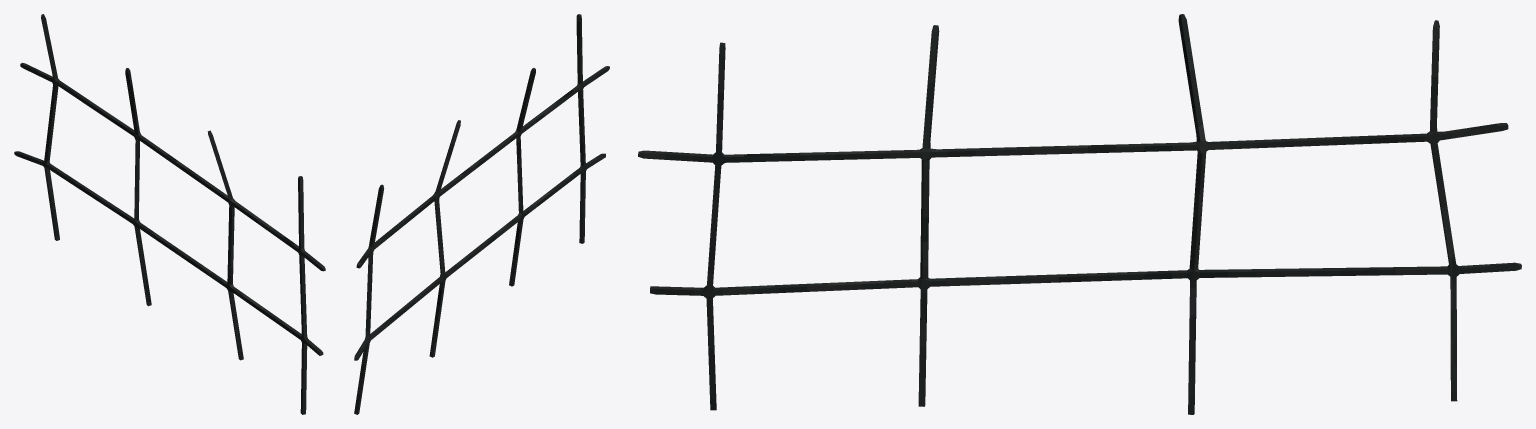
File: fence.glb
3 renders of one model, left to right at view 1: azimuth 30°, elevation 25°; view 2: azimuth 150°, elevation 25°; view 3: azimuth 270°, elevation 25°, orthographic. The views are drawn at different scales.
Visible parts, largest first — view 1: Cube; view 2: Cube; view 3: Cube.
Boxes of the visible parts, x1,y1,x2,y2 form: Cube: (14, 14, 325, 414); Cube: (354, 14, 609, 414); Cube: (638, 14, 1521, 414).
Bounding box in the file's own units: 0.3421 × 2.21 × 4.64.
1 material, 1 textured.
